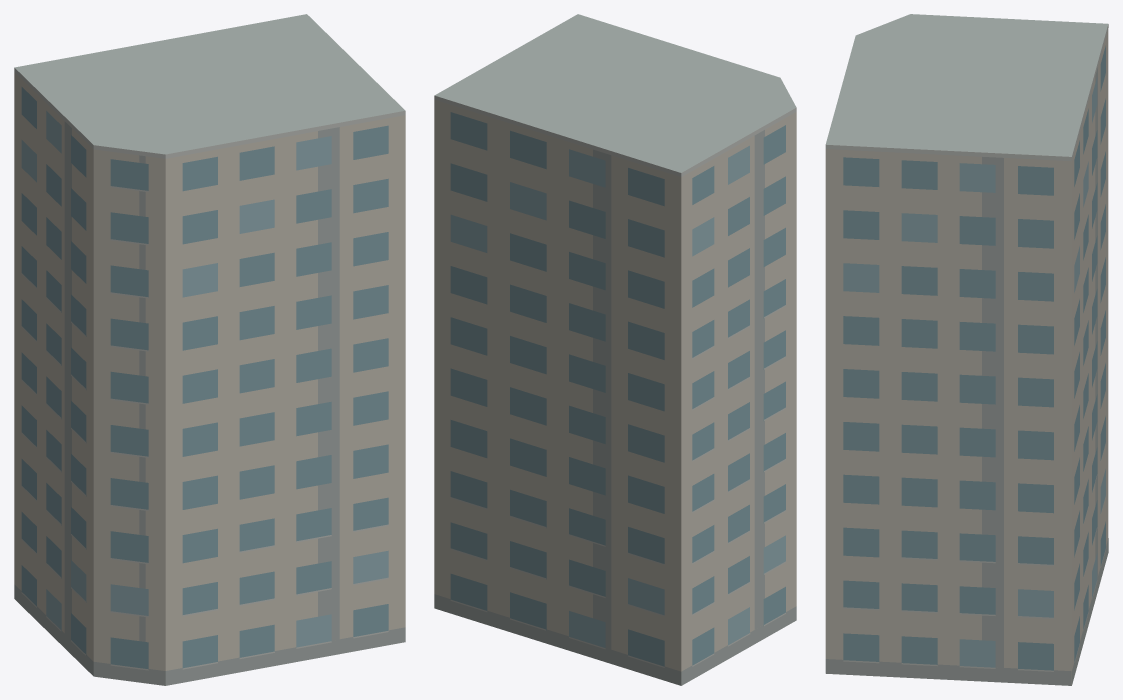
Rendered from residential-4a4a0ef7-82a1-4933-96a7-0b57864402cf.glb.
3 views of the same model, side by side, from view 1: azimuth 30°, elevation 25°; view 2: azimuth 150°, elevation 25°; view 3: azimuth 270°, elevation 25° (orthographic). The views are drawn at different scales.
Visible parts, largest first — view 1: residential-4a4a0ef7-82a1-4933-96a7-0b57864402cf.tmp; view 2: residential-4a4a0ef7-82a1-4933-96a7-0b57864402cf.tmp; view 3: residential-4a4a0ef7-82a1-4933-96a7-0b57864402cf.tmp.
Part boxes in pixels (x1=…): residential-4a4a0ef7-82a1-4933-96a7-0b57864402cf.tmp: x1=14, y1=14, x2=405, y2=685; residential-4a4a0ef7-82a1-4933-96a7-0b57864402cf.tmp: x1=434, y1=14, x2=796, y2=685; residential-4a4a0ef7-82a1-4933-96a7-0b57864402cf.tmp: x1=825, y1=14, x2=1108, y2=685.
Size of the model in its own units: 17.39 by 30 by 14.55.
